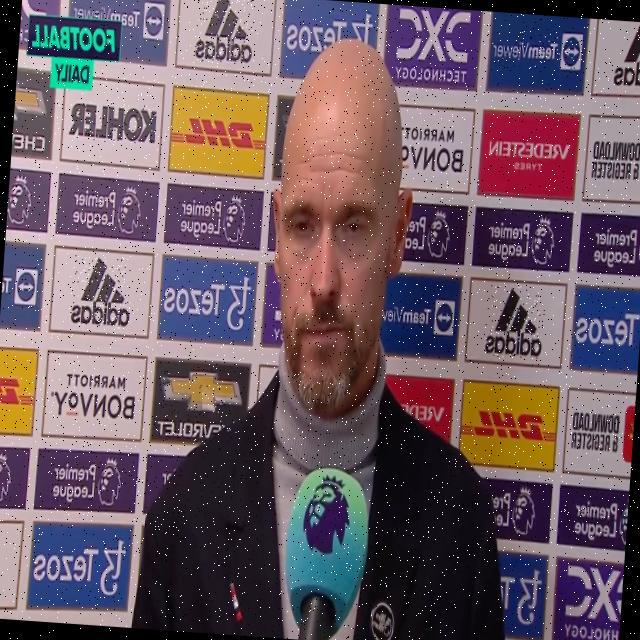Adidas: (482, 284, 546, 360), (69, 255, 133, 329), (192, 0, 255, 64)
Chevrolet: (155, 367, 241, 443)
Kohler: (68, 100, 157, 145)
TeamViewer: (491, 29, 583, 72)
